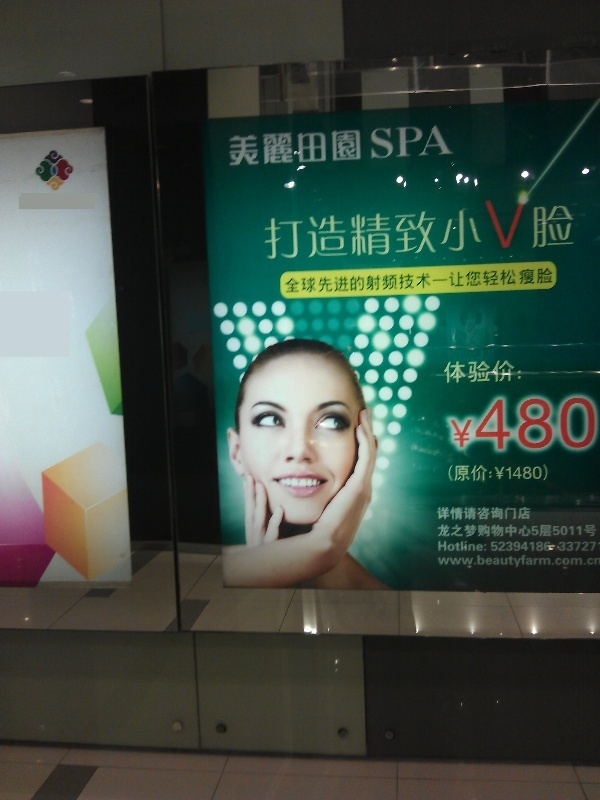text: (561, 199, 577, 263), (273, 199, 288, 263), (289, 199, 304, 263), (305, 199, 320, 263), (321, 199, 336, 263), (337, 199, 352, 263), (353, 199, 368, 263), (369, 199, 384, 263), (385, 199, 400, 263), (401, 199, 416, 263), (417, 199, 432, 263), (433, 199, 448, 263), (449, 199, 464, 263), (465, 199, 480, 263), (481, 199, 496, 263), (497, 199, 512, 263), (513, 199, 528, 263), (529, 199, 544, 263), (545, 199, 560, 263), (449, 393, 464, 451), (465, 393, 480, 451), (481, 393, 496, 451), (497, 393, 512, 451), (513, 393, 528, 451), (529, 393, 544, 451), (545, 393, 560, 451), (561, 393, 576, 451), (577, 393, 592, 451), (225, 124, 240, 170), (241, 124, 256, 170), (257, 124, 272, 170), (273, 124, 288, 170), (289, 124, 304, 170), (305, 124, 320, 170), (321, 124, 336, 170), (337, 124, 352, 170), (353, 124, 368, 170), (369, 124, 384, 170), (385, 124, 400, 170), (401, 124, 416, 170), (417, 124, 432, 170), (433, 124, 448, 170), (262, 199, 272, 263), (449, 358, 464, 385), (465, 358, 480, 385), (481, 358, 496, 385), (497, 358, 512, 385), (289, 267, 304, 294), (305, 267, 320, 294), (321, 267, 336, 294), (337, 267, 352, 294), (353, 267, 368, 294), (369, 267, 384, 294), (385, 267, 400, 294), (401, 267, 416, 294), (417, 267, 432, 294), (433, 267, 448, 294), (449, 267, 464, 294), (465, 267, 480, 294), (481, 267, 496, 294), (497, 267, 512, 294), (513, 267, 528, 294), (529, 267, 544, 294), (545, 267, 556, 294), (449, 464, 464, 483), (465, 464, 480, 483), (481, 464, 496, 483), (497, 464, 512, 483), (513, 464, 528, 483), (529, 464, 544, 483), (513, 358, 522, 385), (593, 393, 597, 451), (449, 506, 464, 521), (465, 506, 480, 521), (481, 506, 496, 521), (497, 506, 512, 521), (513, 506, 528, 521), (449, 524, 464, 538), (465, 524, 480, 538), (481, 524, 496, 538), (497, 524, 512, 538), (513, 524, 528, 538), (529, 524, 544, 538), (545, 524, 560, 538), (561, 524, 576, 538), (577, 524, 592, 538), (435, 506, 448, 521), (449, 555, 464, 568), (465, 555, 480, 568), (481, 555, 496, 568), (497, 555, 512, 568), (513, 555, 528, 568), (529, 555, 544, 568), (545, 555, 560, 568), (561, 555, 576, 568), (577, 555, 592, 568), (449, 124, 453, 170), (449, 541, 464, 553), (465, 541, 480, 553), (435, 555, 448, 568), (436, 524, 448, 538), (497, 541, 512, 552), (513, 541, 528, 552), (529, 541, 544, 552), (561, 542, 576, 553), (577, 542, 592, 553), (443, 358, 448, 385), (437, 541, 448, 553), (284, 267, 288, 294), (545, 464, 550, 483), (593, 555, 600, 568), (481, 541, 488, 553), (593, 524, 598, 538), (545, 541, 551, 552), (491, 541, 496, 552), (529, 506, 532, 521), (593, 542, 597, 553), (446, 464, 448, 483), (558, 542, 560, 553)
